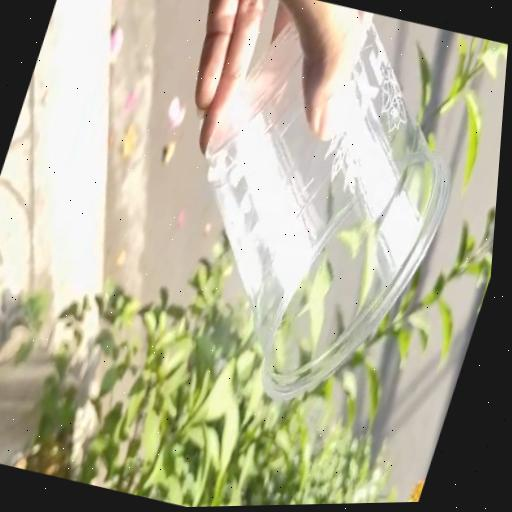ly_giay: (209, 25, 448, 399), (407, 312, 429, 351)
